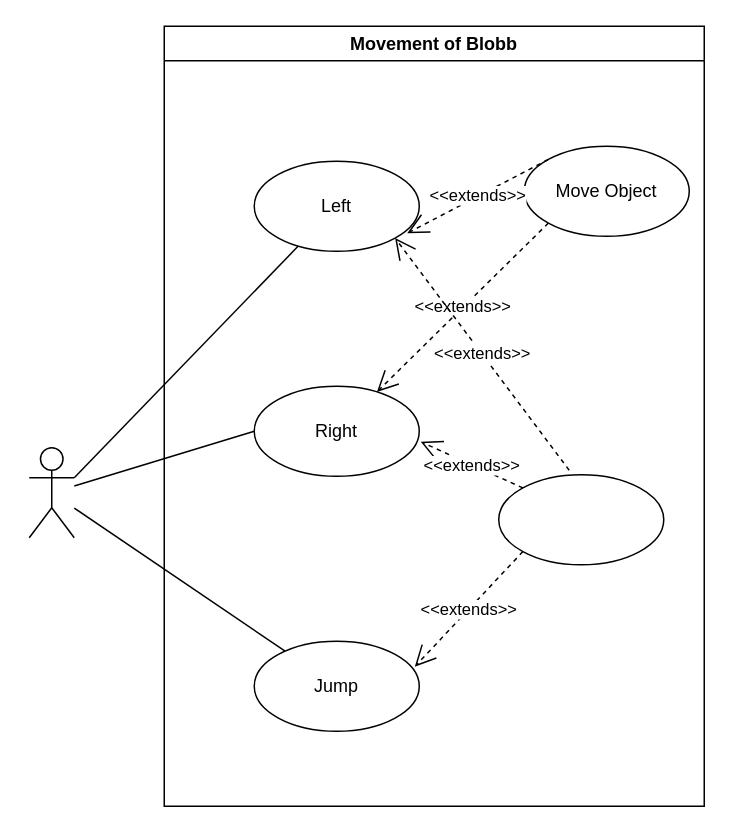
Image size: 731x833. Some labels were removed from this diagram. Here are the shapes that lost their labels. From the top down, the box of each, then its label:
(28, 446, 74, 538): Player
(497, 473, 664, 565): Teleport
